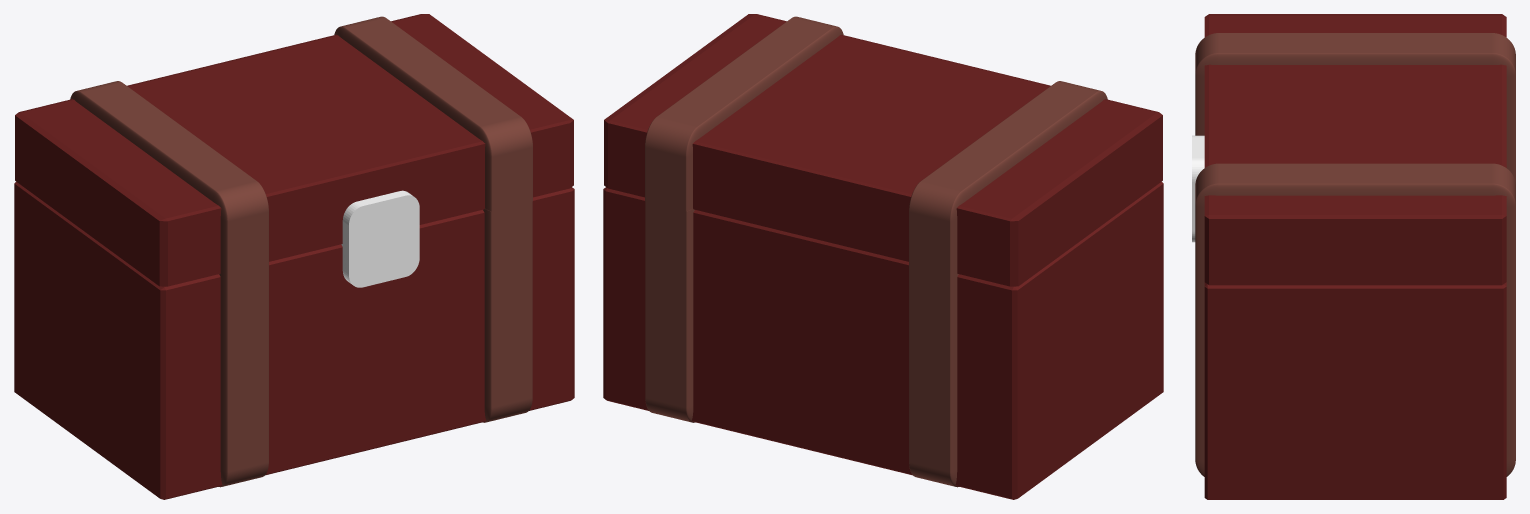
3 renders of one model, left to right at view 1: azimuth 30°, elevation 25°; view 2: azimuth 150°, elevation 25°; view 3: azimuth 270°, elevation 25°, orthographic.
Parts seen in each view (by area): view 1: Cube.016, Cube.017, Cube.020, Cube.019, Cube.021, Cube.018, Cube.022; view 2: Cube.016, Cube.017, Cube.020, Cube.019, Cube.021, Cube.018; view 3: Cube.016, Cube.017, Cube.019, Cube.020, Cube.021, Cube.022, Cube.018.
Boxes of the visible parts, x1=… form: Cube.016: x1=14, y1=182, x2=574, y2=499; Cube.017: x1=15, y1=14, x2=573, y2=286; Cube.020: x1=70, y1=81, x2=268, y2=275; Cube.019: x1=334, y1=16, x2=532, y2=211; Cube.021: x1=482, y1=201, x2=532, y2=422; Cube.018: x1=218, y1=265, x2=268, y2=487; Cube.022: x1=341, y1=190, x2=419, y2=287; Cube.016: x1=603, y1=182, x2=1163, y2=499; Cube.017: x1=604, y1=14, x2=1162, y2=286; Cube.020: x1=909, y1=81, x2=1107, y2=275; Cube.019: x1=645, y1=16, x2=843, y2=211; Cube.021: x1=645, y1=201, x2=695, y2=422; Cube.018: x1=909, y1=265, x2=959, y2=487; Cube.016: x1=1204, y1=282, x2=1506, y2=499; Cube.017: x1=1204, y1=14, x2=1506, y2=285; Cube.019: x1=1195, y1=163, x2=1515, y2=261; Cube.020: x1=1195, y1=33, x2=1515, y2=131; Cube.021: x1=1195, y1=261, x2=1515, y2=476; Cube.022: x1=1192, y1=135, x2=1204, y2=242; Cube.018: x1=1195, y1=130, x2=1515, y2=183.
Size of the model in its own units: 61.17 by 41.54 by 40.84.
